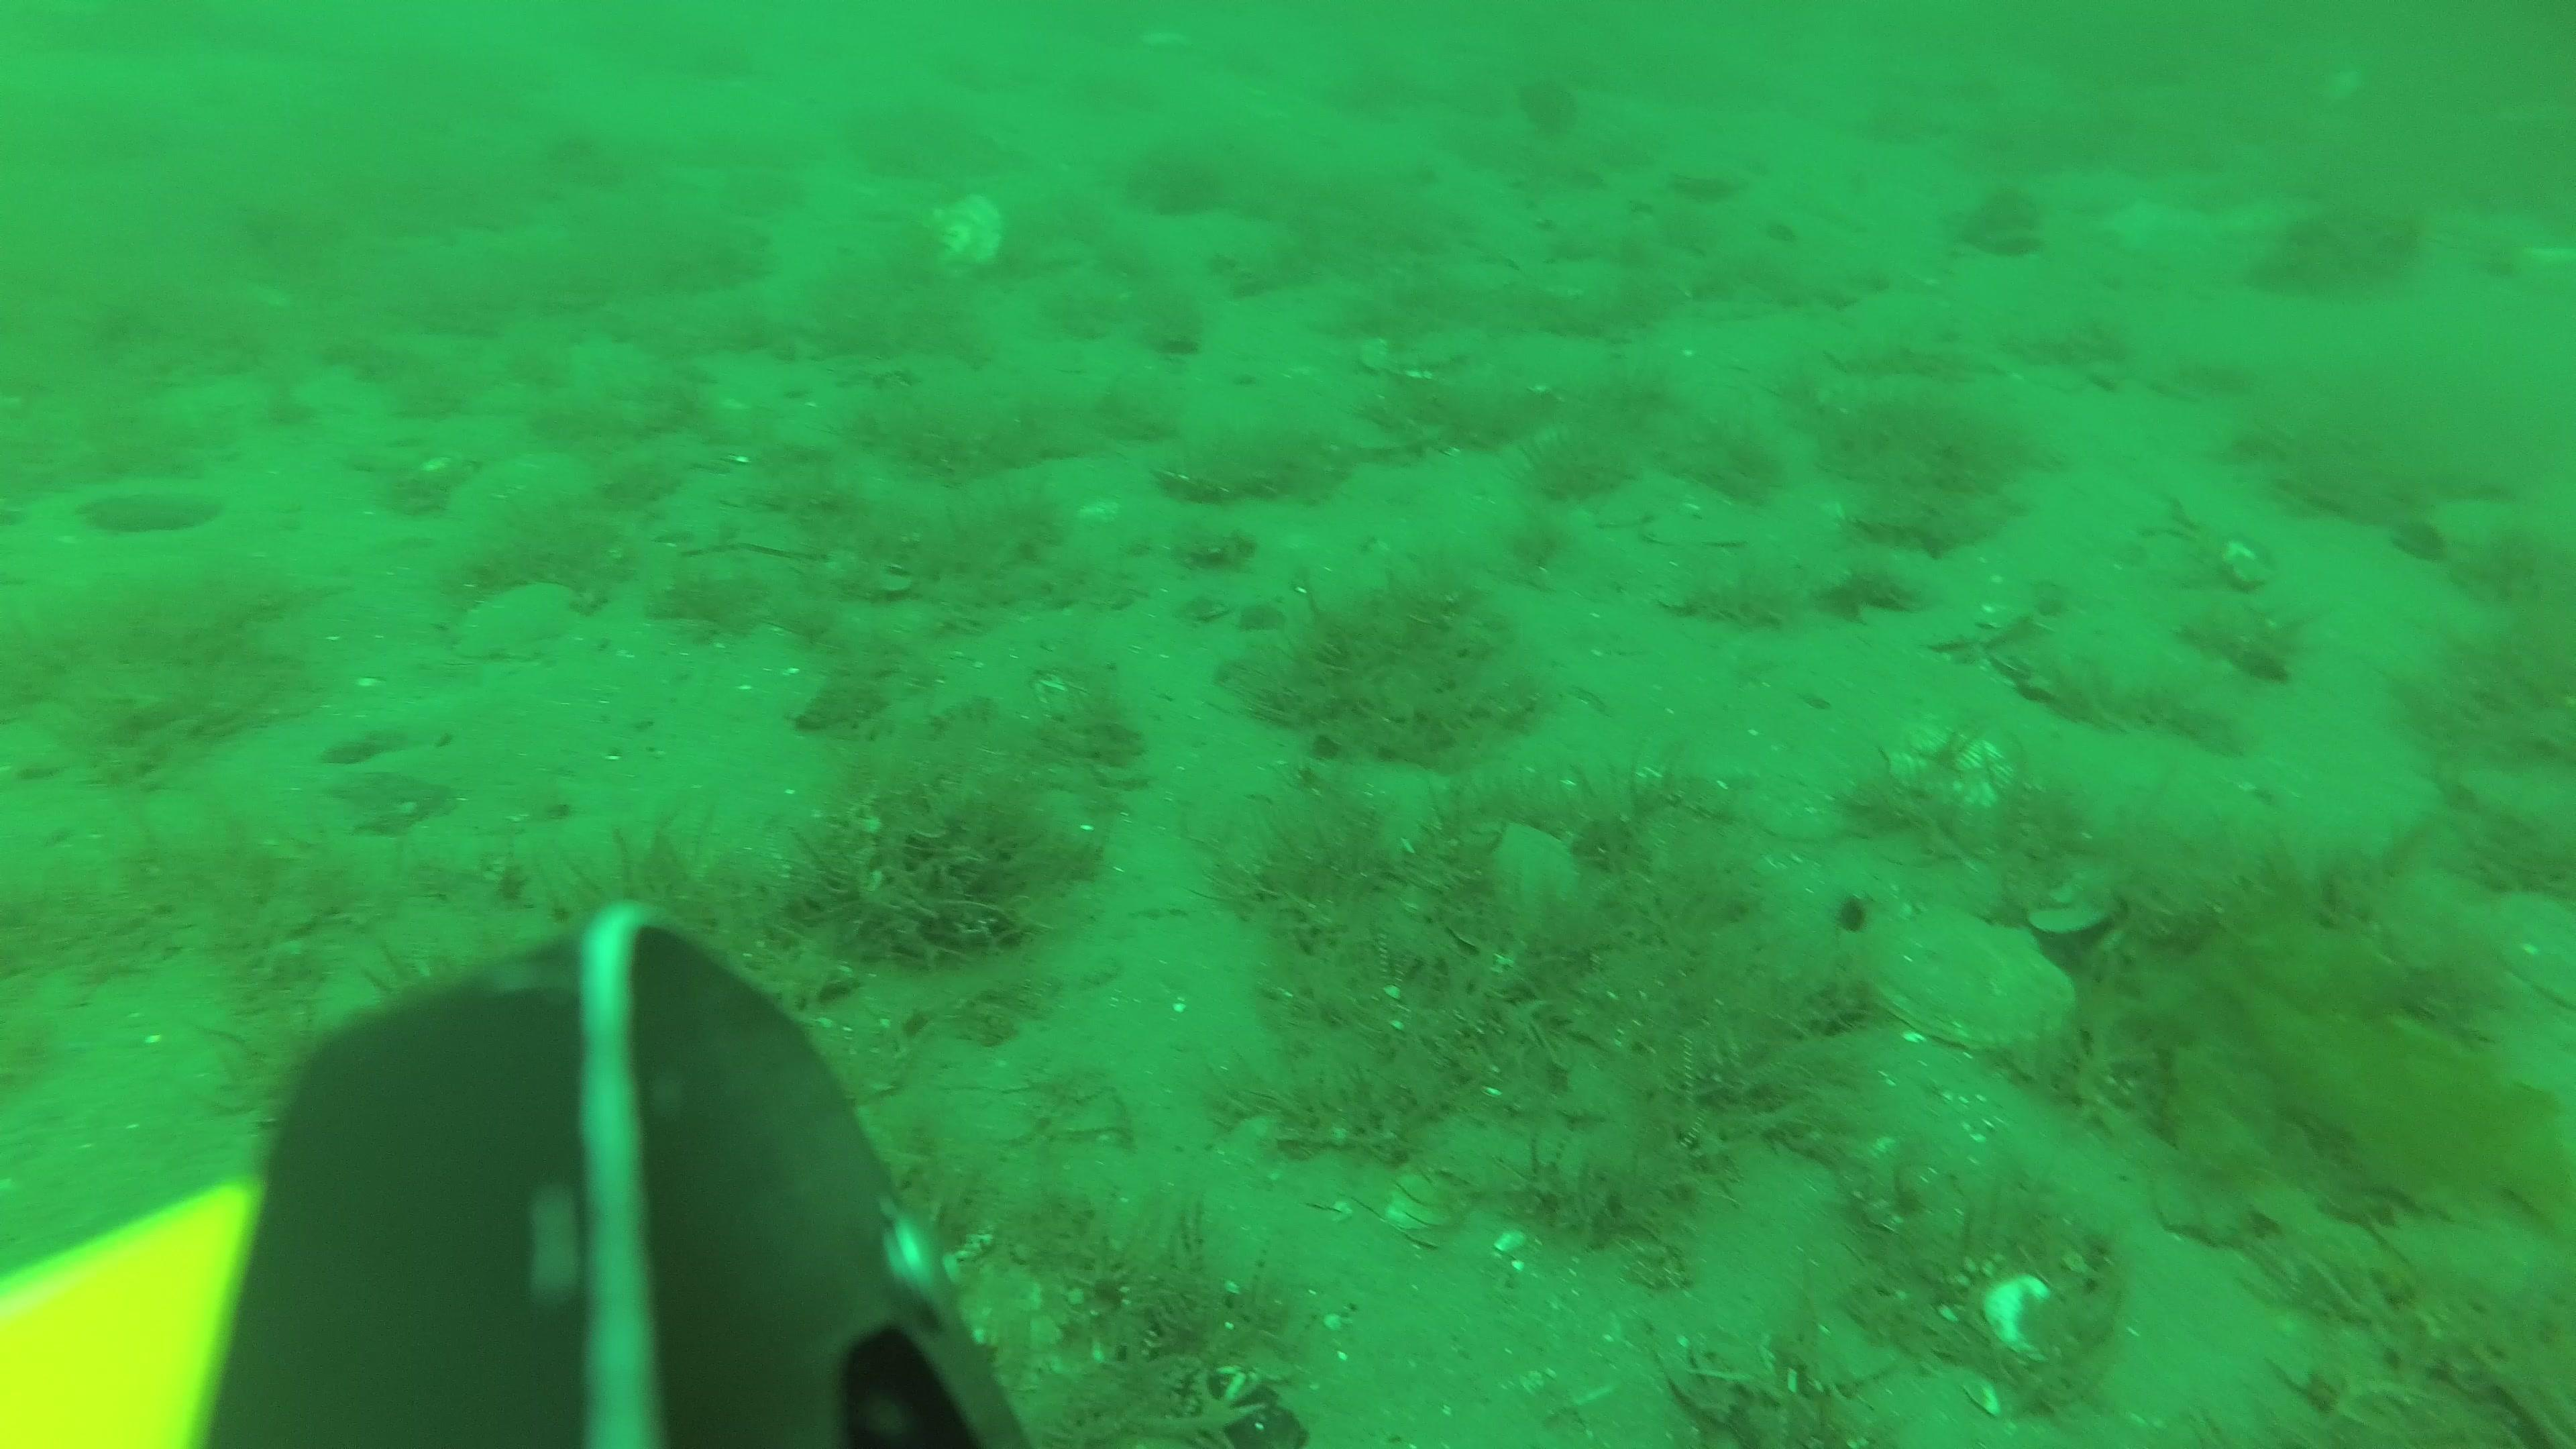scallop: (1877, 911, 2075, 1053), (1447, 824, 1575, 957), (2470, 885, 2576, 1008), (1890, 722, 2013, 814), (453, 586, 579, 663), (924, 195, 1005, 280)
